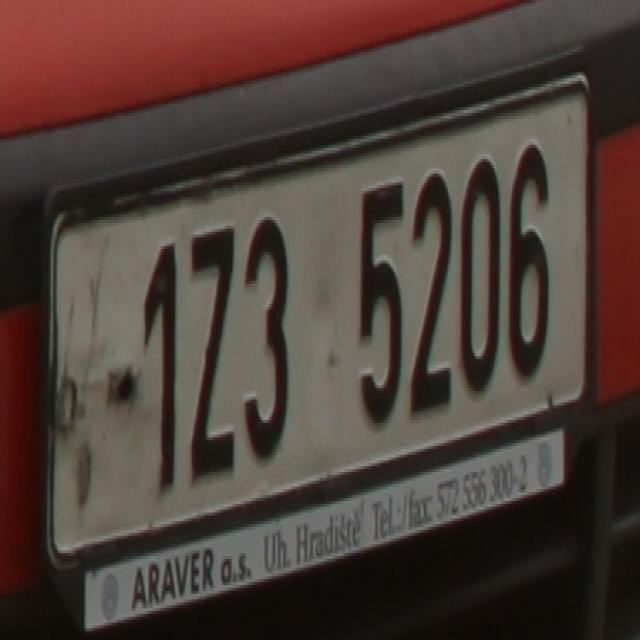0: (457, 156, 502, 397)
1: (141, 238, 178, 490)
2: (411, 168, 454, 423)
3: (243, 217, 290, 458)
5: (360, 174, 406, 418)
6: (508, 138, 550, 380)
Z: (185, 226, 236, 490)
